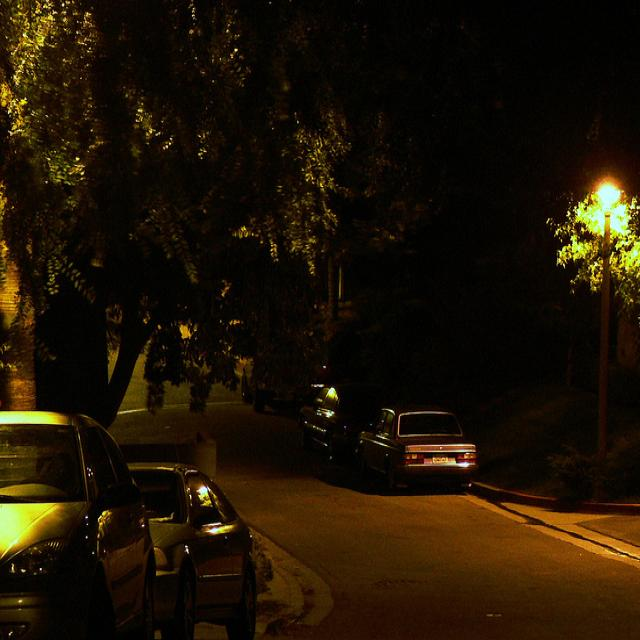Car: (2, 383, 240, 640), (288, 364, 494, 527)
